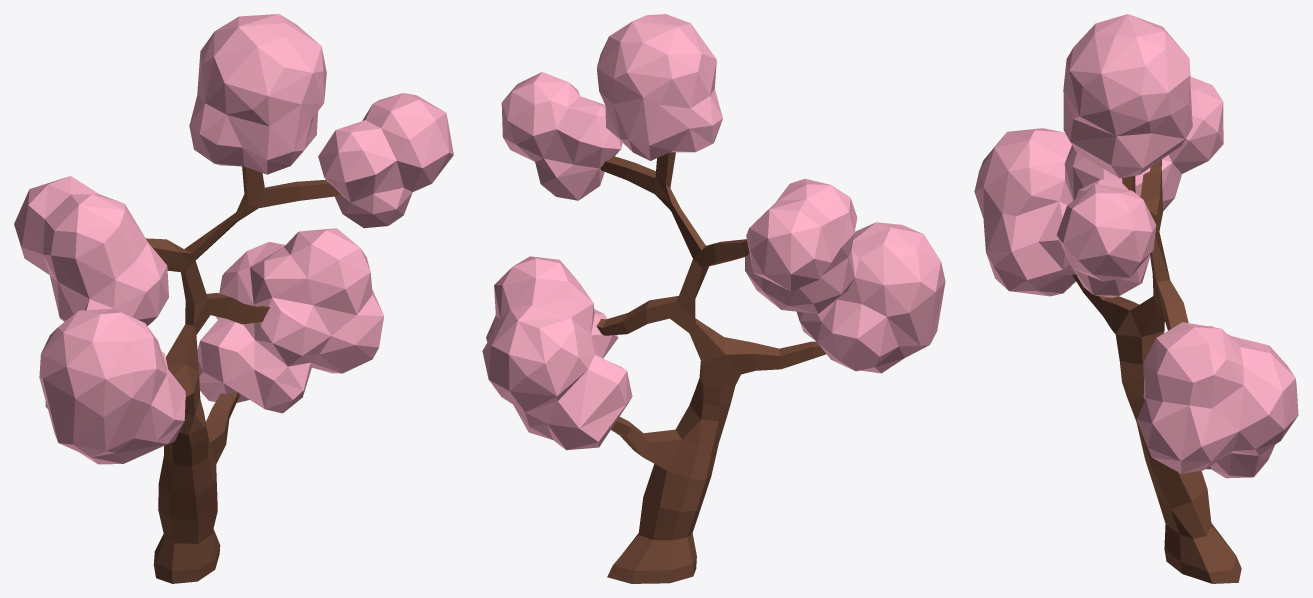
The model's file is tree1.glb.
3 views of the same model, side by side, from view 1: azimuth 30°, elevation 25°; view 2: azimuth 150°, elevation 25°; view 3: azimuth 270°, elevation 25° (orthographic). The views are drawn at different scales.
Parts seen in each view (by area): view 1: LowPoly Tree 05; view 2: LowPoly Tree 05; view 3: LowPoly Tree 05.
Boxes of the visible parts, left/top/right/bottom form: LowPoly Tree 05: left=14, top=14, right=453, bottom=583; LowPoly Tree 05: left=482, top=14, right=945, bottom=583; LowPoly Tree 05: left=974, top=14, right=1298, bottom=583.
Bounding box in the file's own units: 3.35 × 4.11 × 2.16.
